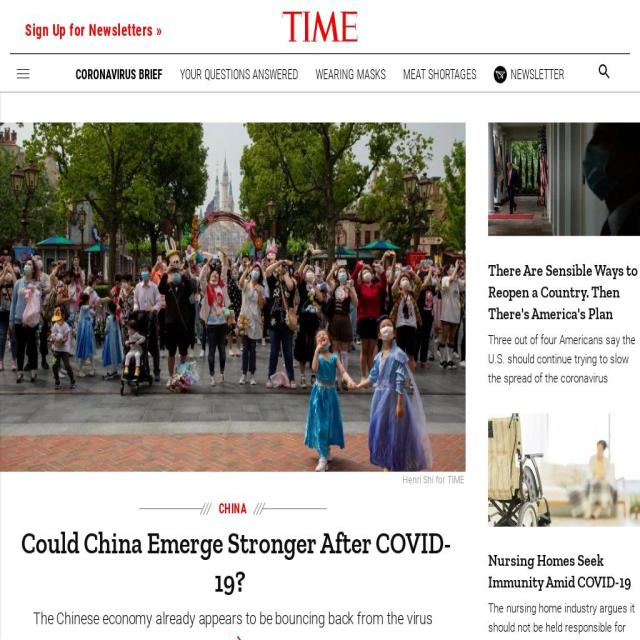button: (280, 0, 360, 53), (25, 18, 163, 42), (180, 66, 298, 82), (76, 66, 162, 82), (494, 65, 564, 83), (403, 66, 476, 82), (316, 66, 386, 82), (218, 494, 248, 524), (223, 635, 243, 640)
heading: (21, 524, 445, 599), (488, 259, 638, 323), (488, 550, 631, 592)
image: (0, 122, 466, 472), (488, 122, 640, 236), (488, 412, 640, 526), (280, 9, 360, 44), (494, 65, 507, 83), (223, 635, 243, 640)
text: (0, 607, 466, 629), (488, 330, 640, 388), (488, 599, 640, 640), (0, 473, 466, 486), (510, 66, 564, 82)
